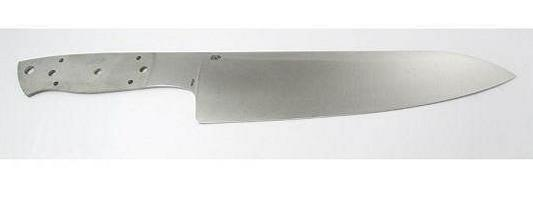knife: (17, 51, 518, 123)
